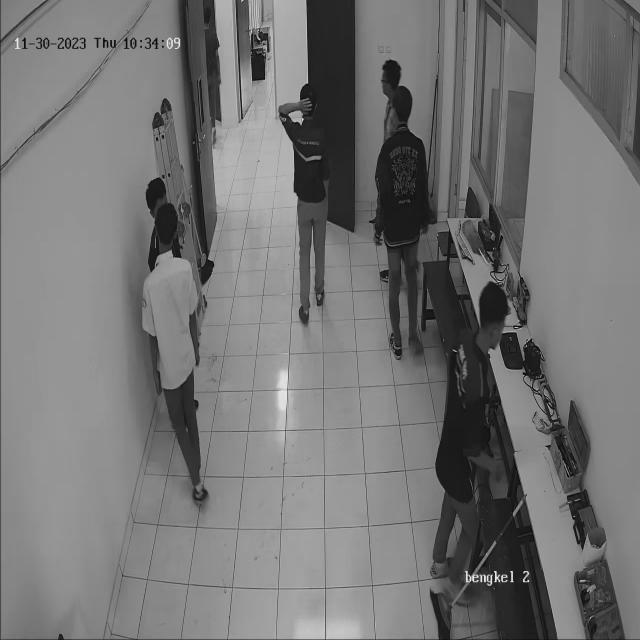person: (142, 174, 212, 506), (442, 267, 486, 640), (275, 77, 331, 328), (378, 56, 422, 358)
